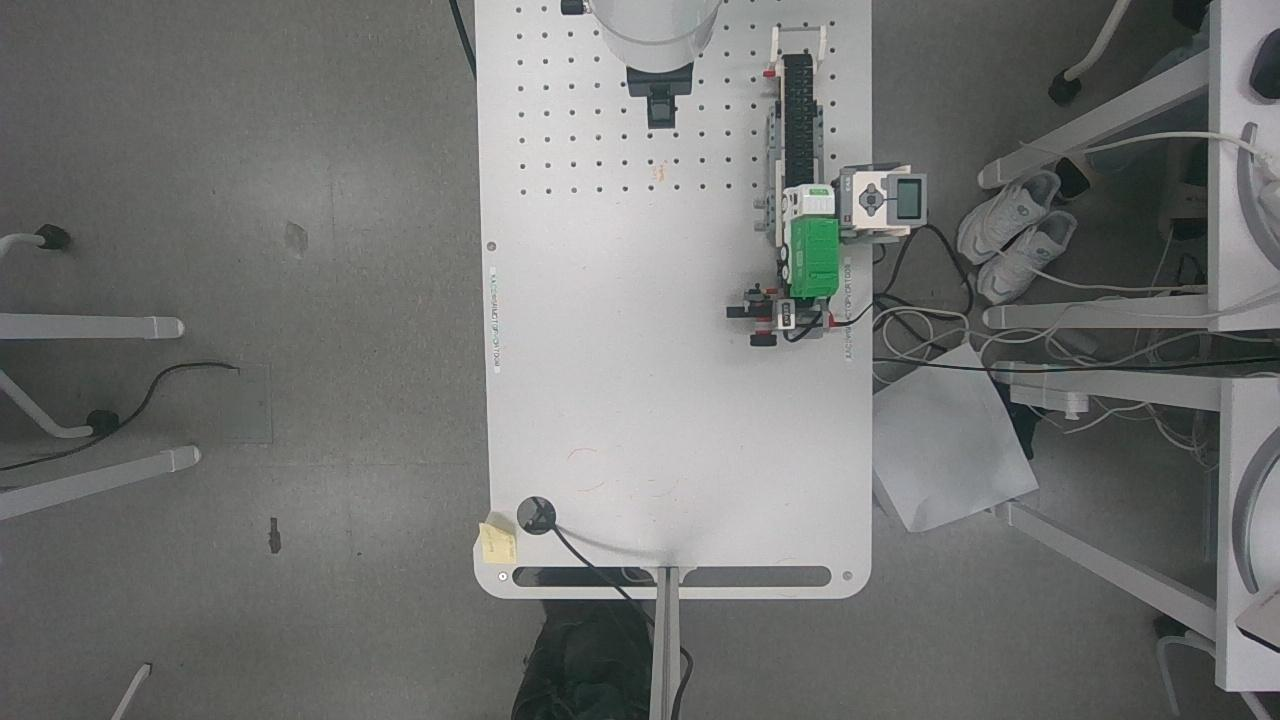truck: (764, 176, 848, 316)
